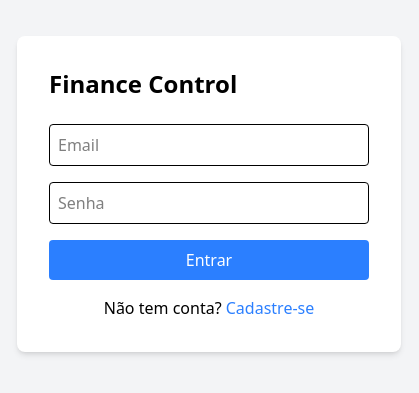
Test case: Login Component › submissão do formulário › deve mostrar mensagem de erro em caso de falha no login
Type "test@example.com" into the field with placeholder "Email".
click(209, 145); type("test@example.com")  # box x1=49 y1=124 x2=369 y2=166
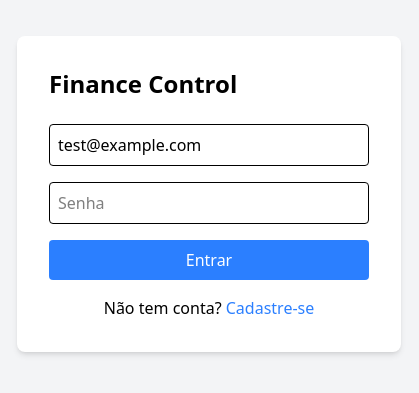
Type "wrongpassword" into the password field with placeholder "Senha".
click(209, 203); type("wrongpassword")  # box x1=49 y1=182 x2=369 y2=224
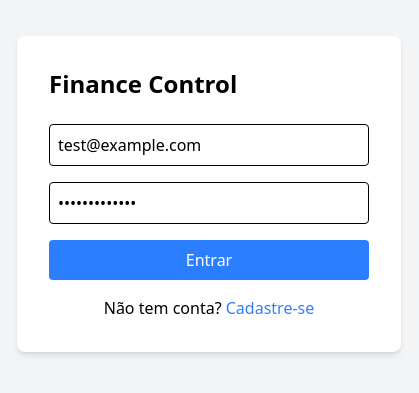
Click the button "Entrar".
click(209, 260)  # box x1=49 y1=240 x2=369 y2=280
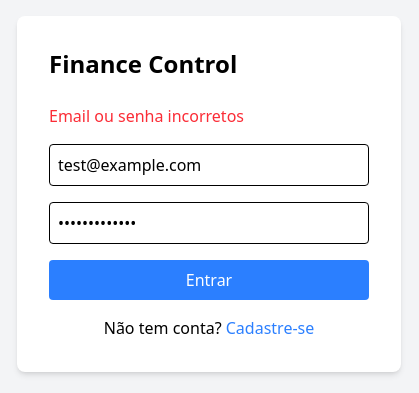
Check: the text "Email ou senha incorretos" is shown, box x1=49 y1=105 x2=244 y2=127
